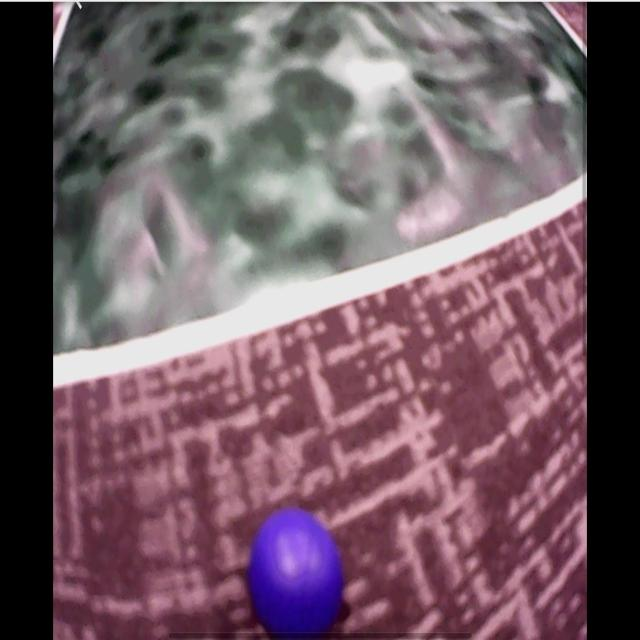ball: (250, 512, 340, 640)
